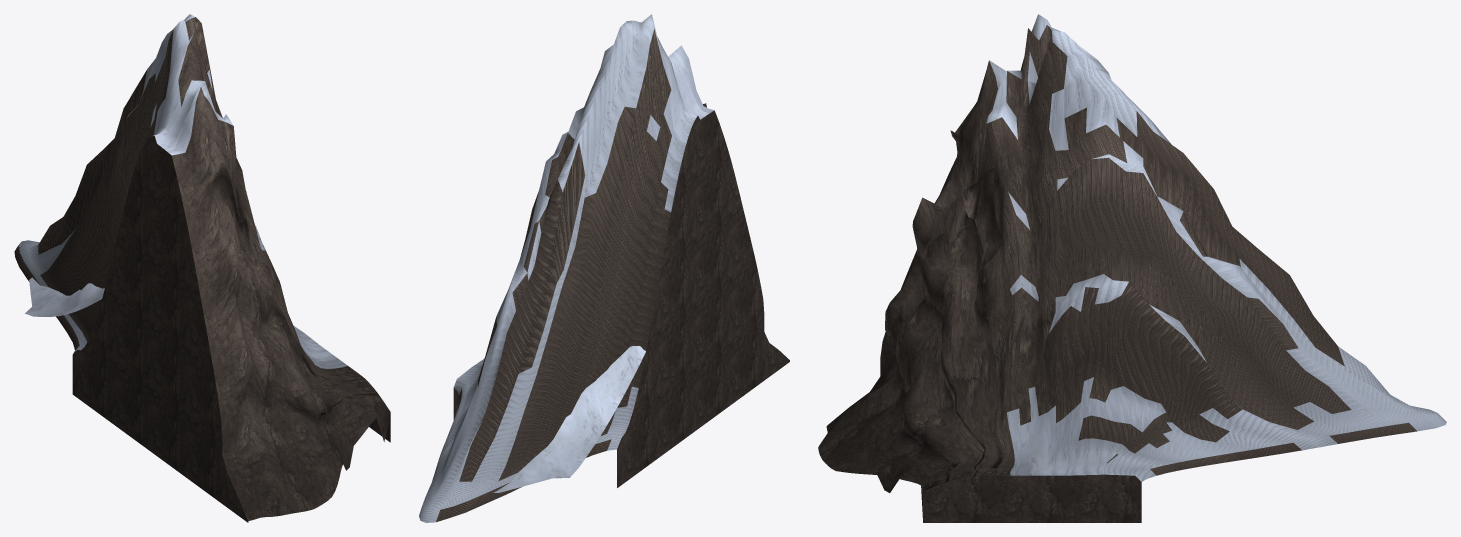
Rendered from seacliff_endcap_right_h8_b_v5_winter.glb.
The picture shows the model from 3 angles, left to right: view 1: azimuth 30°, elevation 25°; view 2: azimuth 150°, elevation 25°; view 3: azimuth 270°, elevation 25°; orthographic projection. The views are drawn at different scales.
Parts seen in each view (by area): view 1: seacliff_endcap_right_h8_b; view 2: seacliff_endcap_right_h8_b; view 3: seacliff_endcap_right_h8_b.
Part boxes in pixels (x1,y1,x2,y2): seacliff_endcap_right_h8_b: [14, 14, 390, 522]; seacliff_endcap_right_h8_b: [419, 14, 789, 522]; seacliff_endcap_right_h8_b: [818, 14, 1446, 522].
Size of the model in its own units: 6 by 12.72 by 16.74.
Materials: 2 (2 with a texture image).
